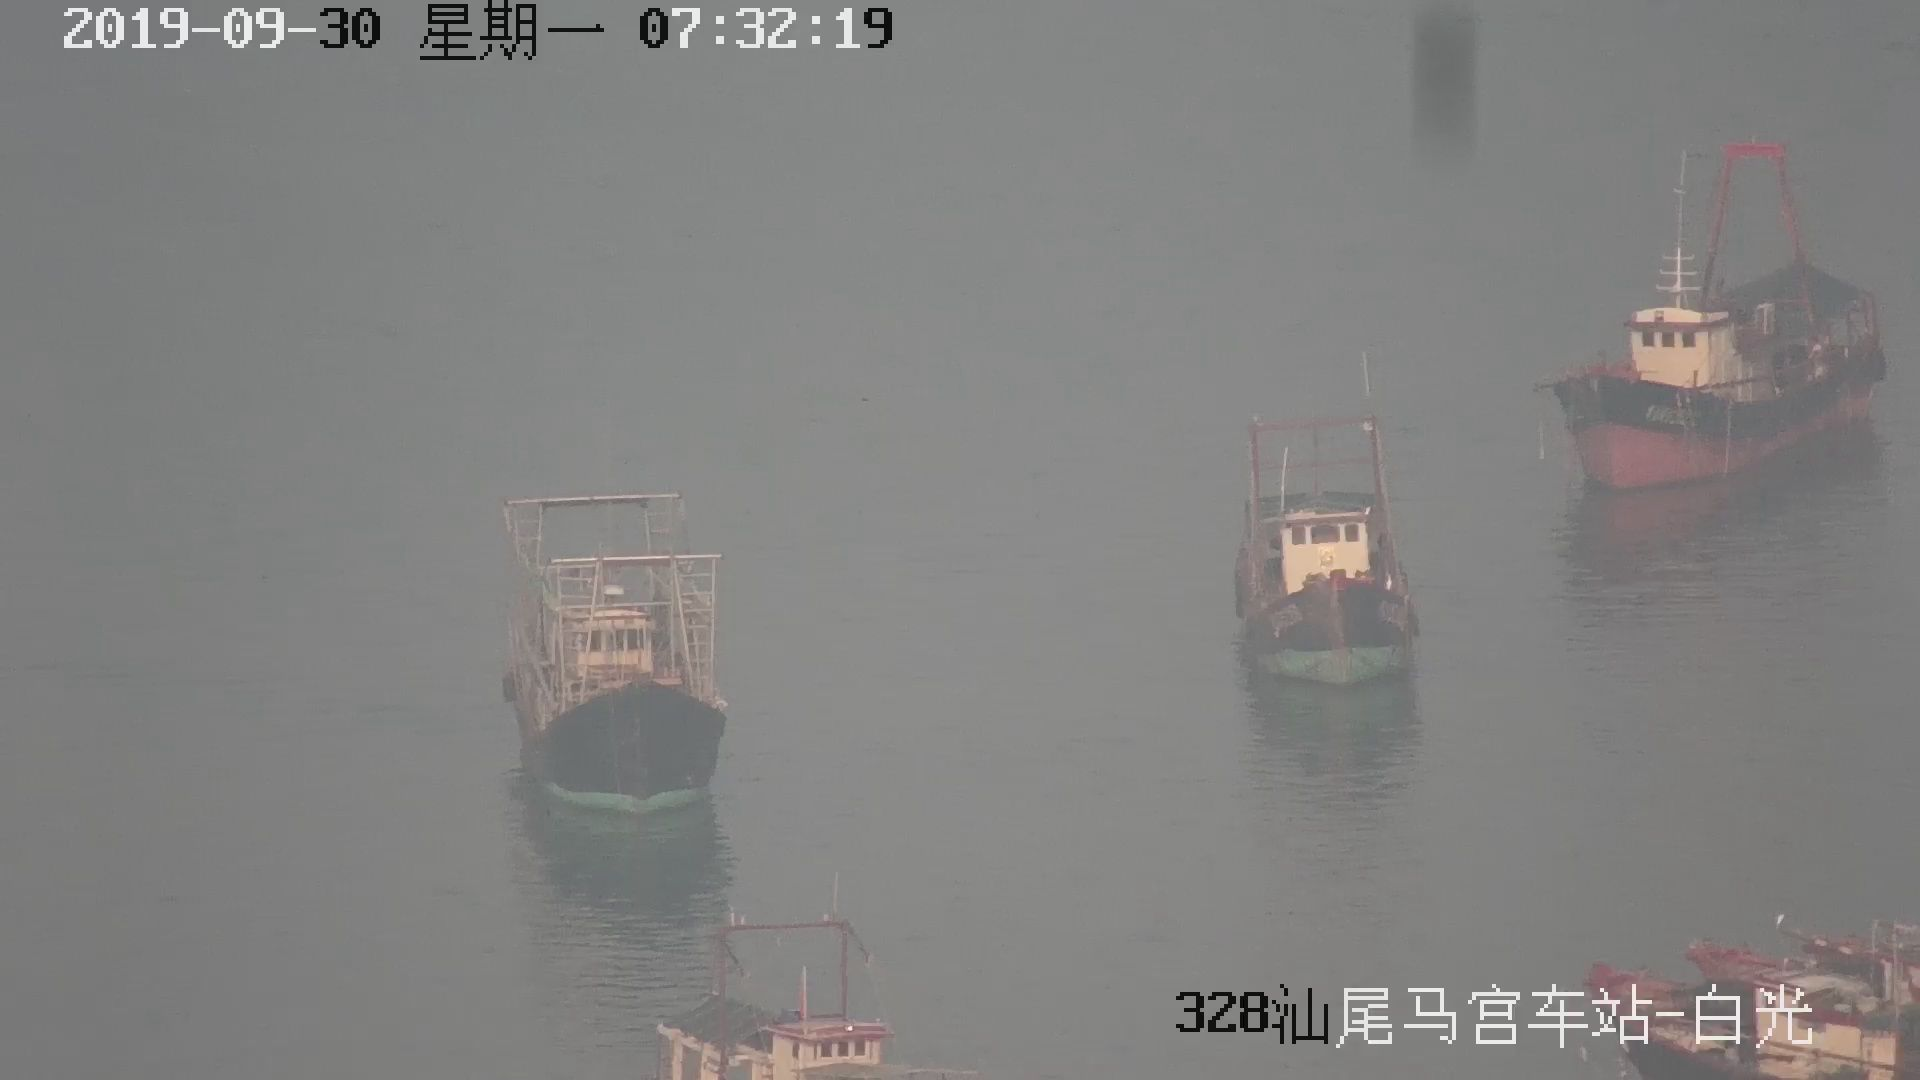ship: (1538, 141, 1884, 500), (501, 495, 735, 811), (1230, 392, 1418, 717)
